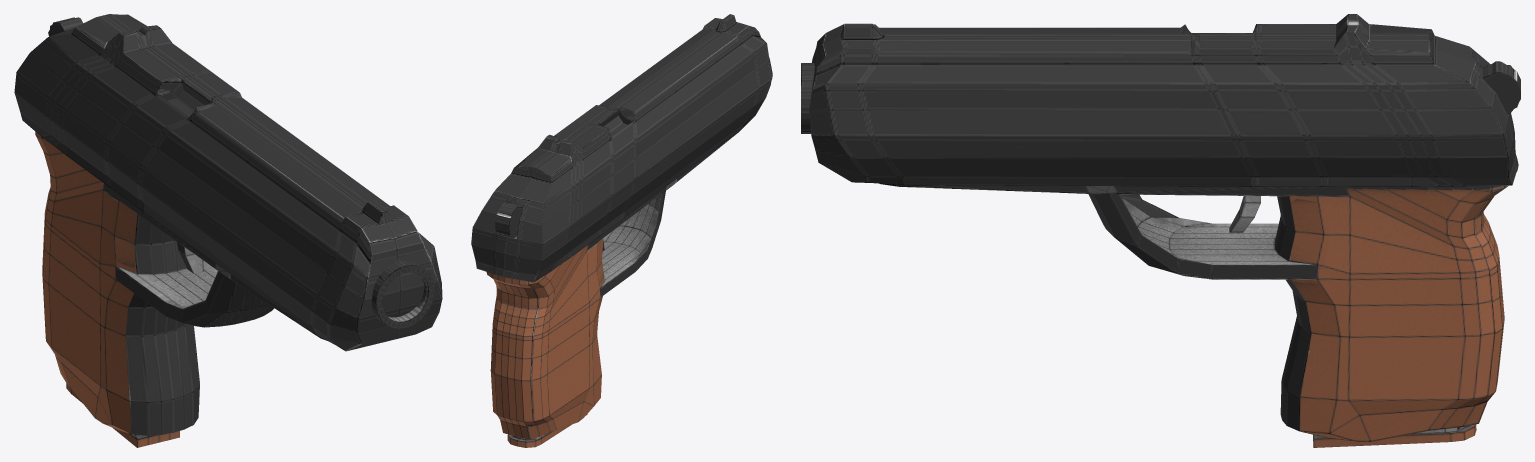
File: Completed Makarov.fbx
The picture shows the model from 3 angles, left to right: view 1: azimuth 30°, elevation 25°; view 2: azimuth 150°, elevation 25°; view 3: azimuth 270°, elevation 25°; orthographic projection. The views are drawn at different scales.
Visible parts, largest first — view 1: Makarov; view 2: Makarov; view 3: Makarov.
Boxes of the visible parts, x1,y1,x2,y2 form: Makarov: [14, 14, 442, 447]; Makarov: [471, 14, 772, 447]; Makarov: [801, 14, 1520, 447].
Size of the model in its own units: 97.09 by 349 by 550.
